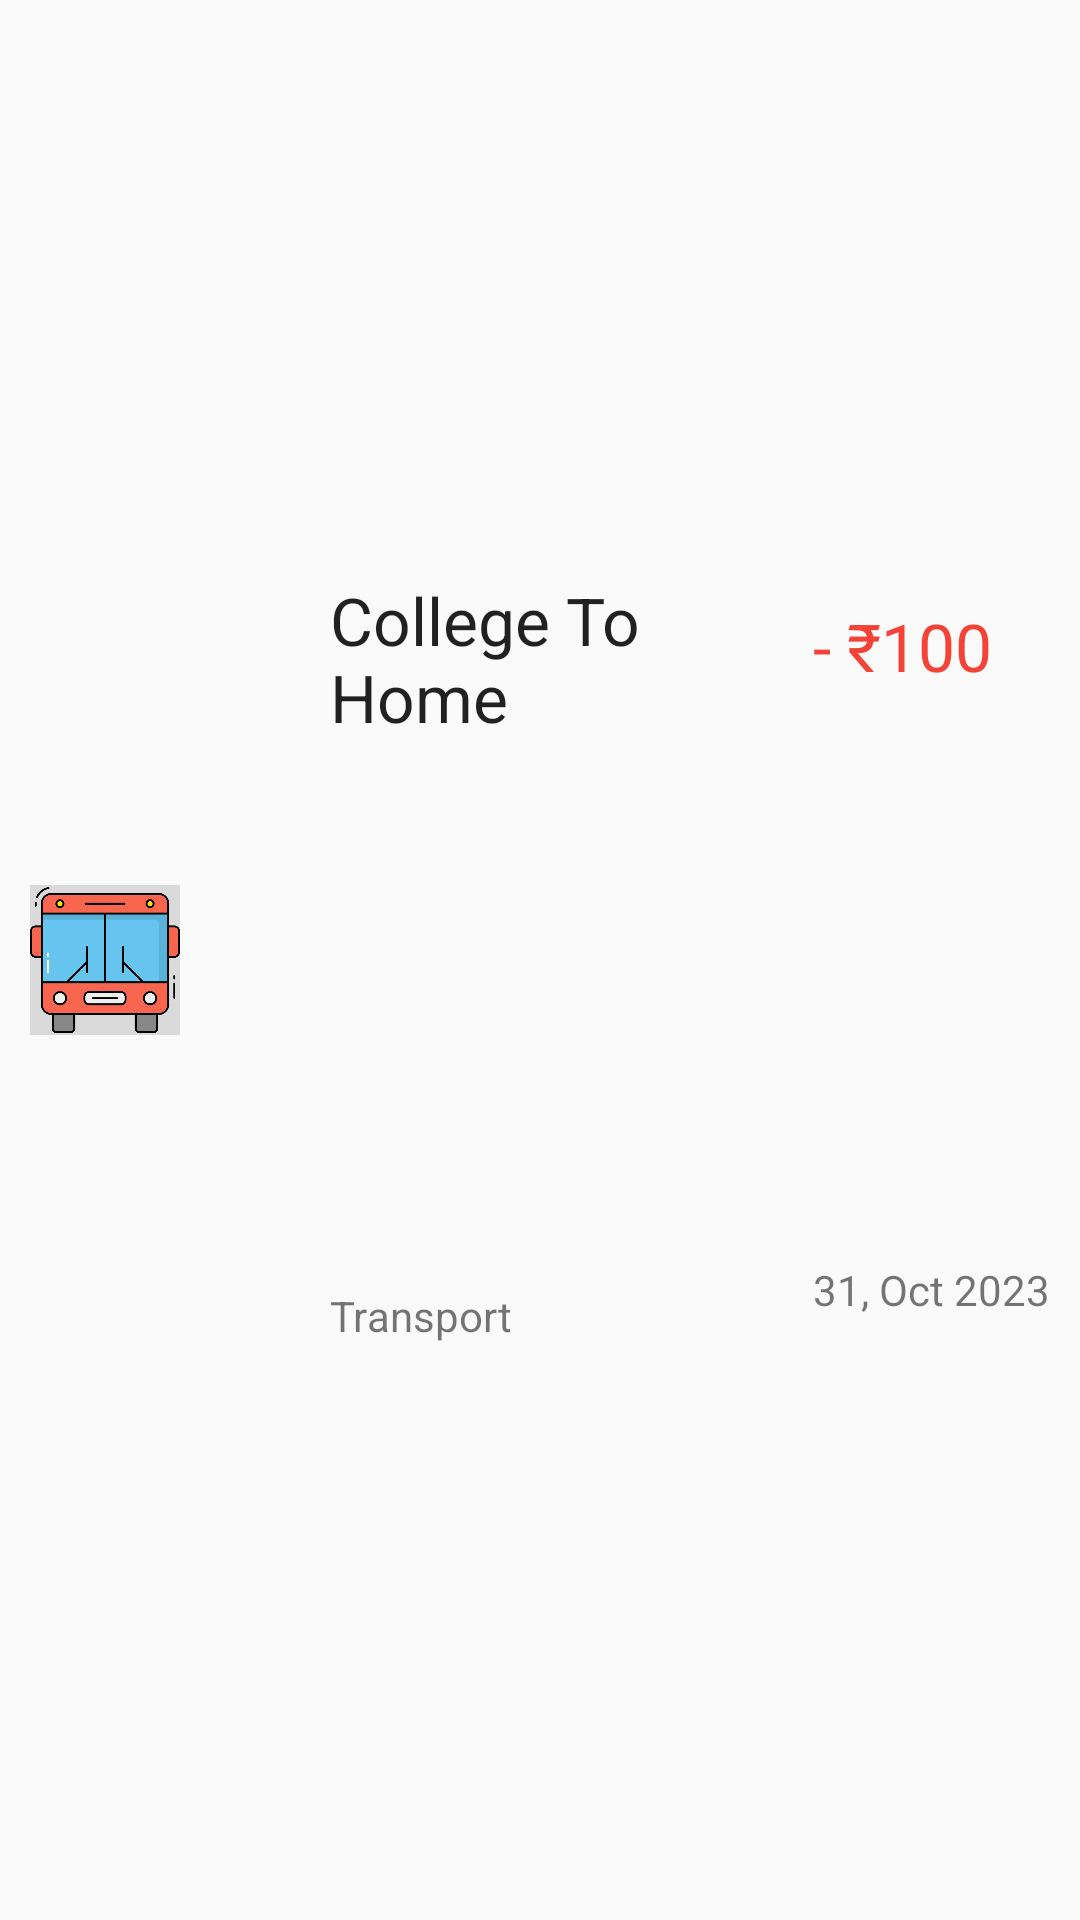

Locate icon controls on the screen. Image size 1080 × 1920, boxes as bbox=[x1, y1, x2, y2].
transport: bbox=[30, 885, 180, 1035]
